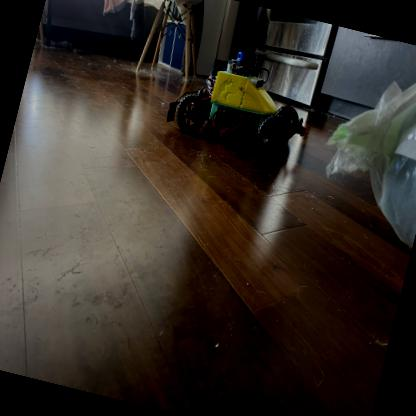mushr_car: (160, 32, 327, 168)
